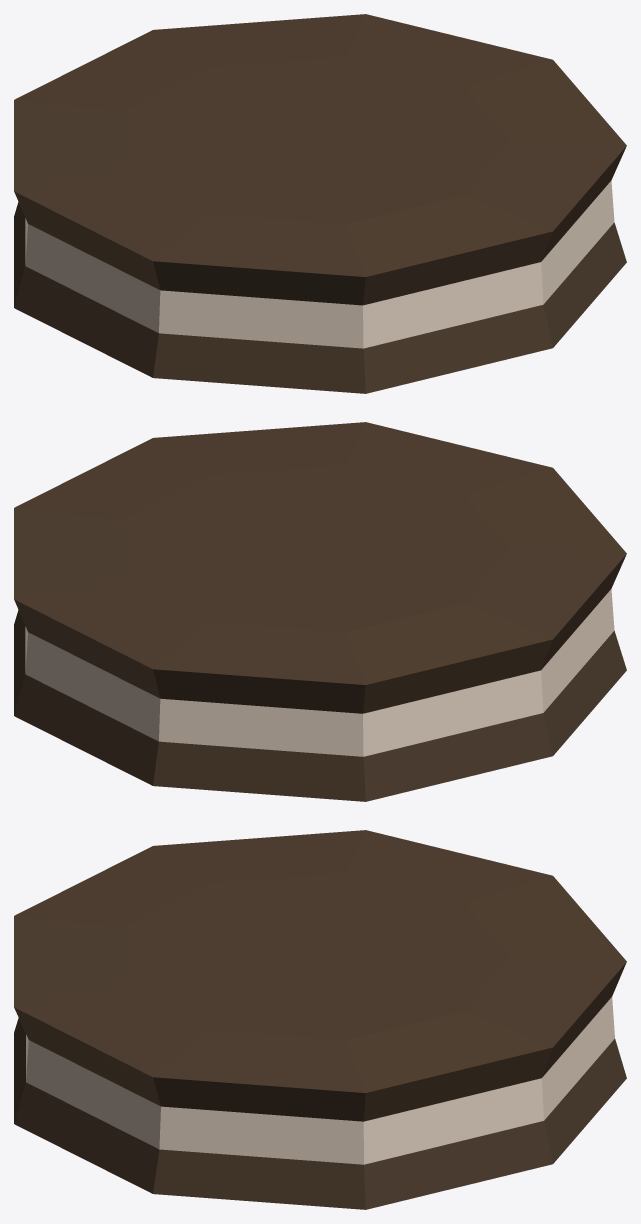
File: cookie-oreo.glb
3 renders of one model, top to bottom at view 1: azimuth 30°, elevation 25°; view 2: azimuth 150°, elevation 25°; view 3: azimuth 270°, elevation 25°, orthographic.
Visible parts, largest first — view 1: cookie-oreo; view 2: cookie-oreo; view 3: cookie-oreo.
Boxes of the visible parts, box(x1,y1,x2,y2) form: cookie-oreo: box(14, 14, 626, 393); cookie-oreo: box(14, 422, 626, 801); cookie-oreo: box(14, 830, 626, 1209).
Size of the model in its own units: 0.0985 by 0.0226 by 0.097.
1 material, 1 textured.
